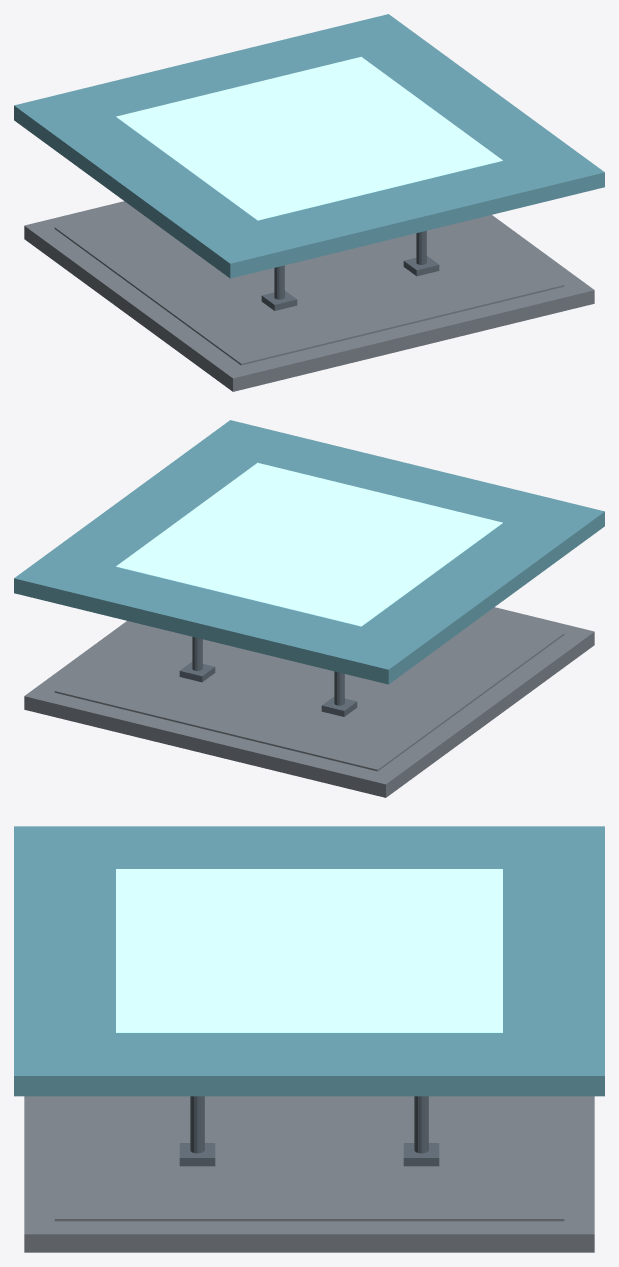
Rendered from pavilion.glb.
The picture shows the model from 3 angles, top to bottom: view 1: azimuth 30°, elevation 25°; view 2: azimuth 150°, elevation 25°; view 3: azimuth 270°, elevation 25°; orthographic projection. The views are drawn at different scales.
Visible parts, largest first — view 1: Cube.010, Cube.001, Cube.011, Cube; view 2: Cube.010, Cube.001, Cube.011, Cube; view 3: Cube.010, Cube.011, Cube.001, Cube, Cylinder.001, Cylinder.003, Cube.003, Cube.005.
Boxes of the visible parts, box(x1,y1,x2,y2) form: Cube.010: box(14, 14, 604, 278); Cube.001: box(54, 208, 564, 365); Cube.011: box(116, 56, 502, 220); Cube: box(24, 201, 594, 391); Cube.010: box(14, 420, 604, 684); Cube.001: box(54, 614, 564, 771); Cube.011: box(116, 462, 502, 626); Cube: box(24, 607, 594, 797); Cube.010: box(14, 826, 604, 1096); Cube.011: box(116, 869, 502, 1032); Cube.001: box(54, 1096, 564, 1221); Cube: box(24, 1096, 594, 1252); Cylinder.001: box(190, 1096, 204, 1153); Cylinder.003: box(414, 1096, 428, 1153); Cube.003: box(179, 1143, 215, 1166); Cube.005: box(403, 1143, 439, 1166).
Size of the model in its own units: 11.6 by 3.93 by 11.6.
